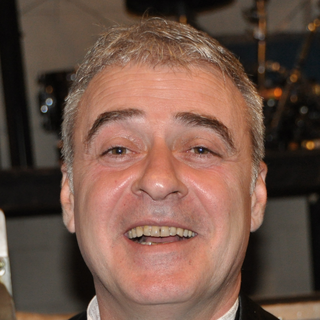eye: (179, 139, 224, 163), (96, 139, 140, 163)
